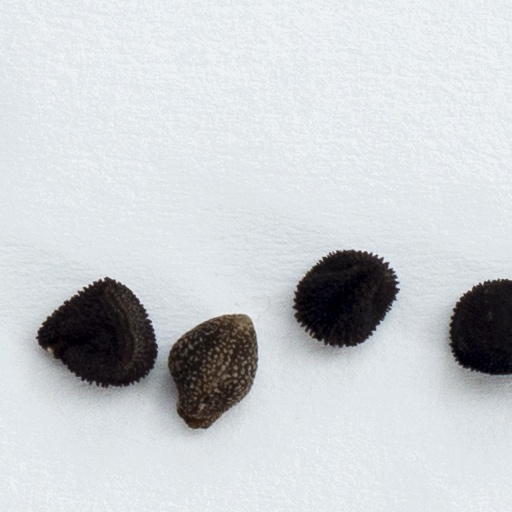Agrostemma-poly: (33, 271, 157, 388)
Convolvulus-poly: (163, 315, 258, 441)
